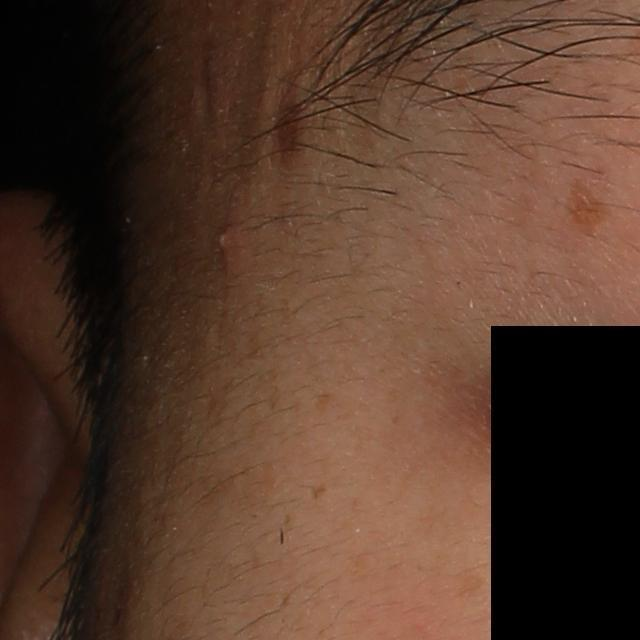papule: (203, 216, 248, 269)
